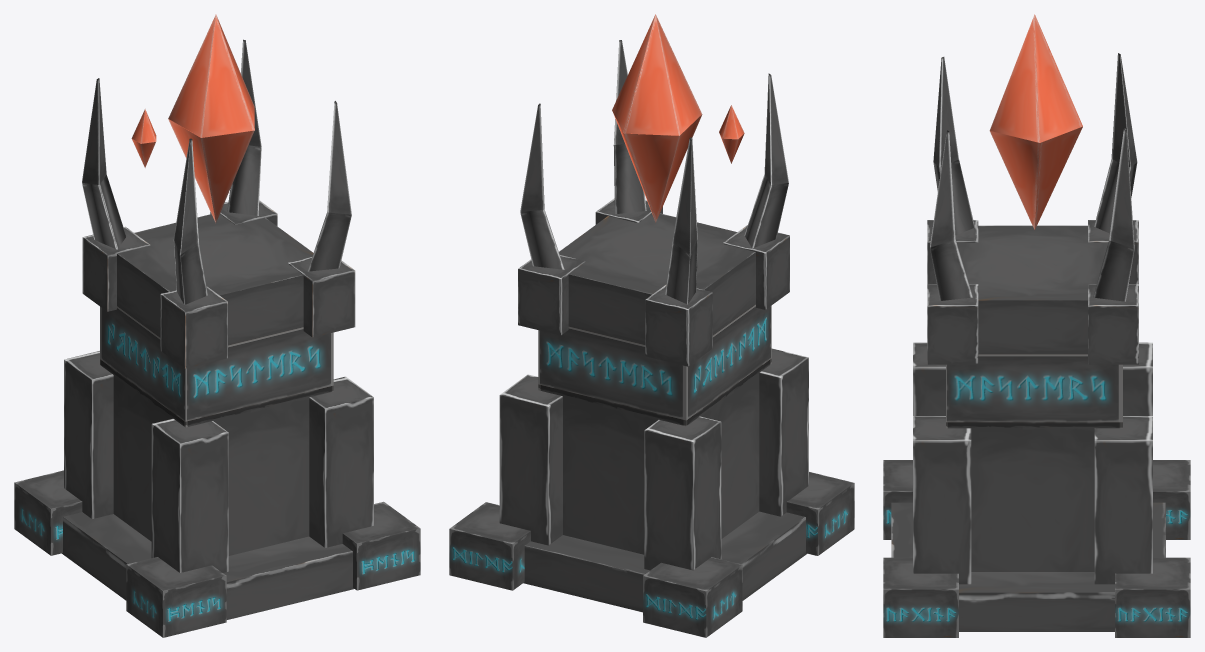
The model's file is magic_2.FBX.
3 renders of one model, left to right at view 1: azimuth 30°, elevation 25°; view 2: azimuth 150°, elevation 25°; view 3: azimuth 270°, elevation 25°, orthographic. The views are drawn at different scales.
Visible parts, largest first — view 1: Box576, Cone040, Cone039; view 2: Box576, Cone040, Cone039; view 3: Box576, Cone040.
Boxes of the visible parts, x1,y1,x2,y2 form: Box576: [14, 39, 420, 637]; Cone040: [168, 14, 254, 222]; Cone039: [131, 109, 156, 167]; Box576: [449, 40, 854, 637]; Cone040: [612, 14, 702, 222]; Cone039: [719, 105, 744, 163]; Box576: [883, 53, 1190, 637]; Cone040: [989, 14, 1082, 229].
Size of the model in its own units: 44.79 by 89.97 by 44.81.
